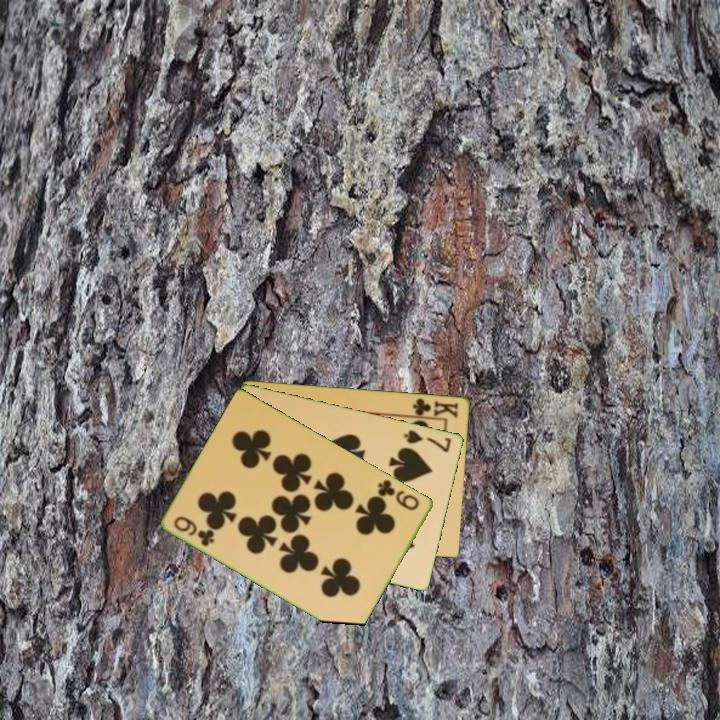7s: (401, 426, 454, 455)
9c: (374, 476, 423, 513), (170, 512, 218, 549)
Kc: (407, 394, 461, 421)
